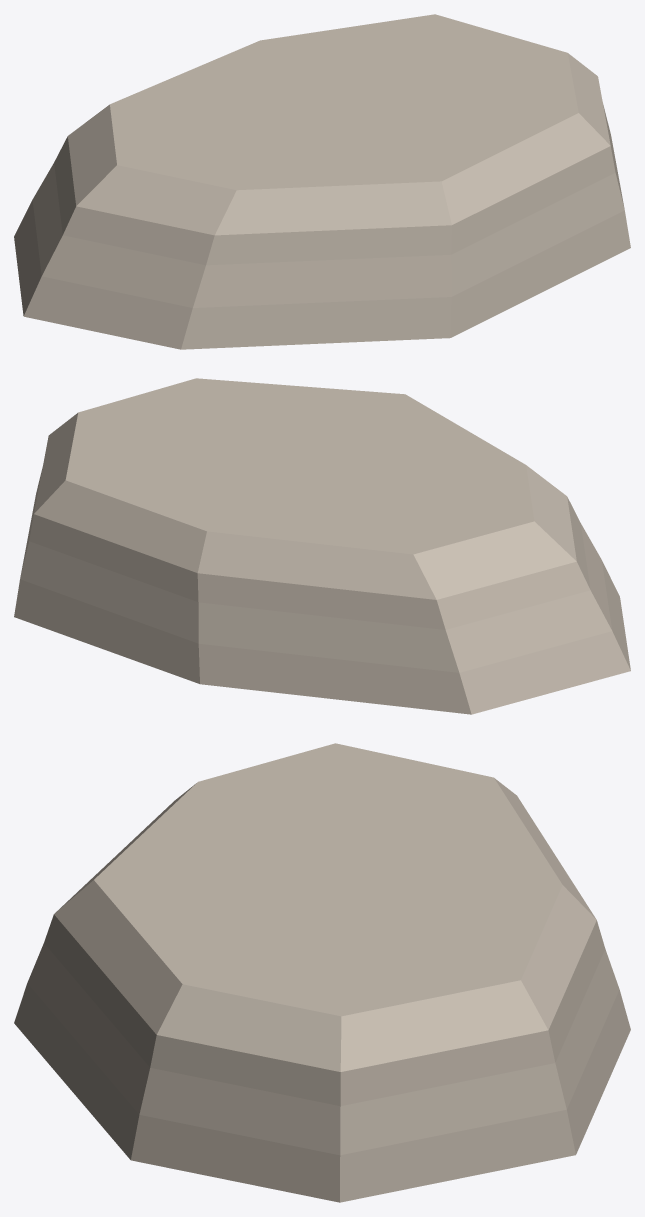
The model's file is StratifiedSlab.fbx.
3 renders of one model, top to bottom at view 1: azimuth 30°, elevation 25°; view 2: azimuth 150°, elevation 25°; view 3: azimuth 270°, elevation 25°, orthographic. The views are drawn at different scales.
Visible parts, largest first — view 1: StratifiedSlab; view 2: StratifiedSlab; view 3: StratifiedSlab.
Part boxes in pixels (box(x1,y1,x2,y2)): StratifiedSlab: box(14, 14, 630, 349); StratifiedSlab: box(14, 378, 630, 714); StratifiedSlab: box(14, 743, 630, 1202).
Bounding box in the file's own units: 343 × 70 × 249.
